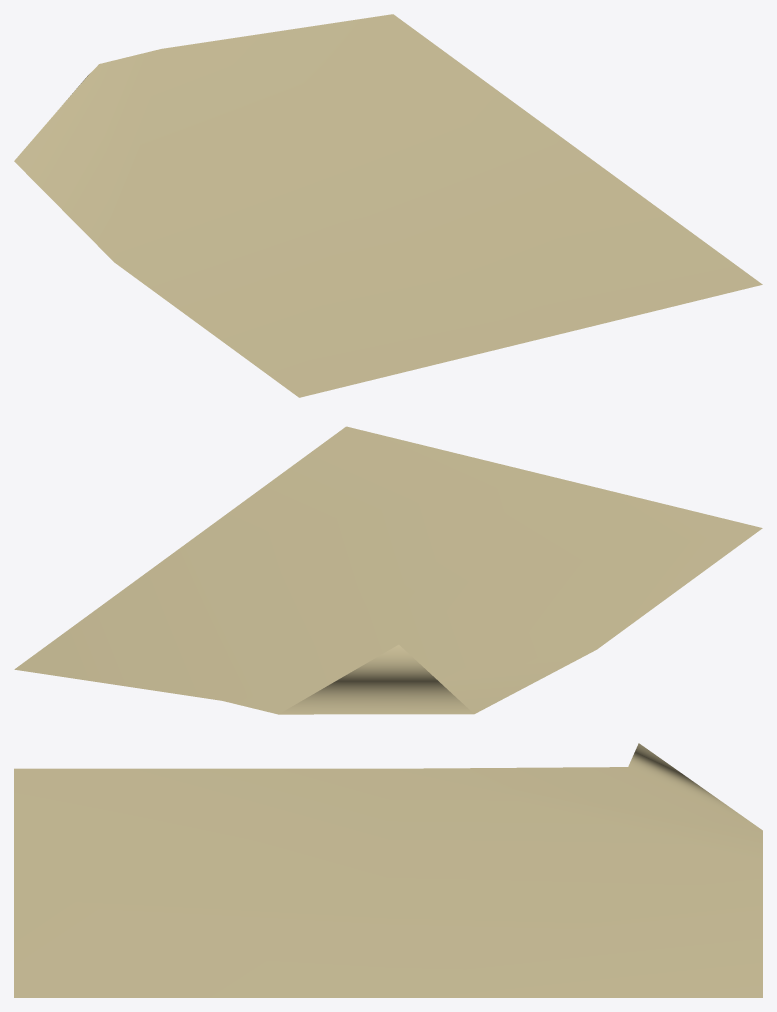
File: SM_Paper_03.fbx
3 renders of one model, top to bottom at view 1: azimuth 30°, elevation 25°; view 2: azimuth 150°, elevation 25°; view 3: azimuth 270°, elevation 25°, orthographic. The views are drawn at different scales.
Parts seen in each view (by area): view 1: SM_Paper_03; view 2: SM_Paper_03; view 3: SM_Paper_03.
Boxes of the visible parts, x1=… form: SM_Paper_03: x1=14, y1=14, x2=762, y2=397; SM_Paper_03: x1=14, y1=426, x2=762, y2=714; SM_Paper_03: x1=14, y1=743, x2=762, y2=997.
Bounding box in the file's own units: 21 × 3.14 × 29.
